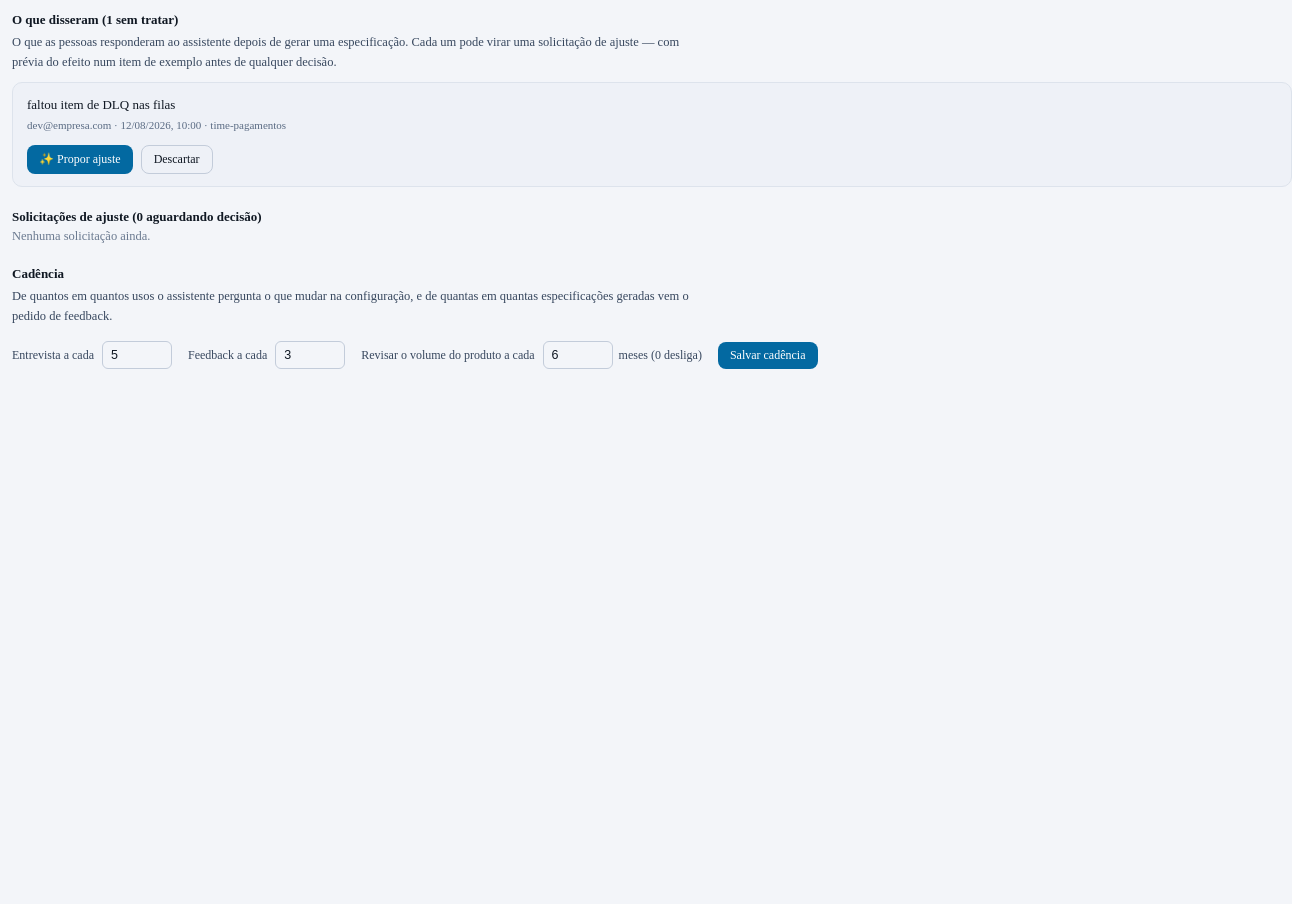
Test: PdcaTab — a jornada do PDCA (SPEC-45) › o ✨ redige o texto do item a partir do feedback
Click the button with test id "propor-f1" at [80, 159], box x1=27 y1=144 x2=133 y2=174
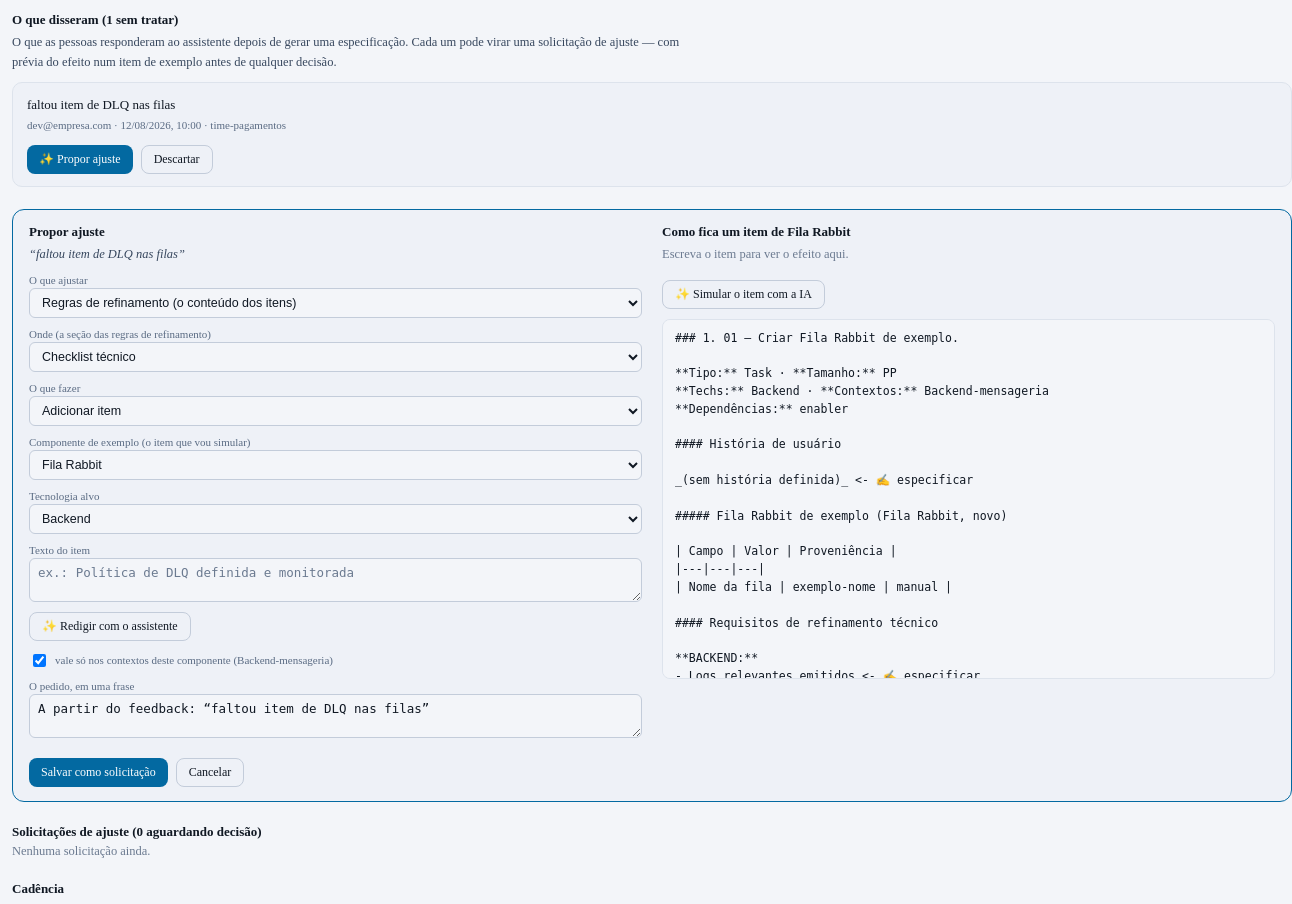
Click the button with test id "redigir-com-ia" at [110, 626], box x1=29 y1=612 x2=191 y2=640
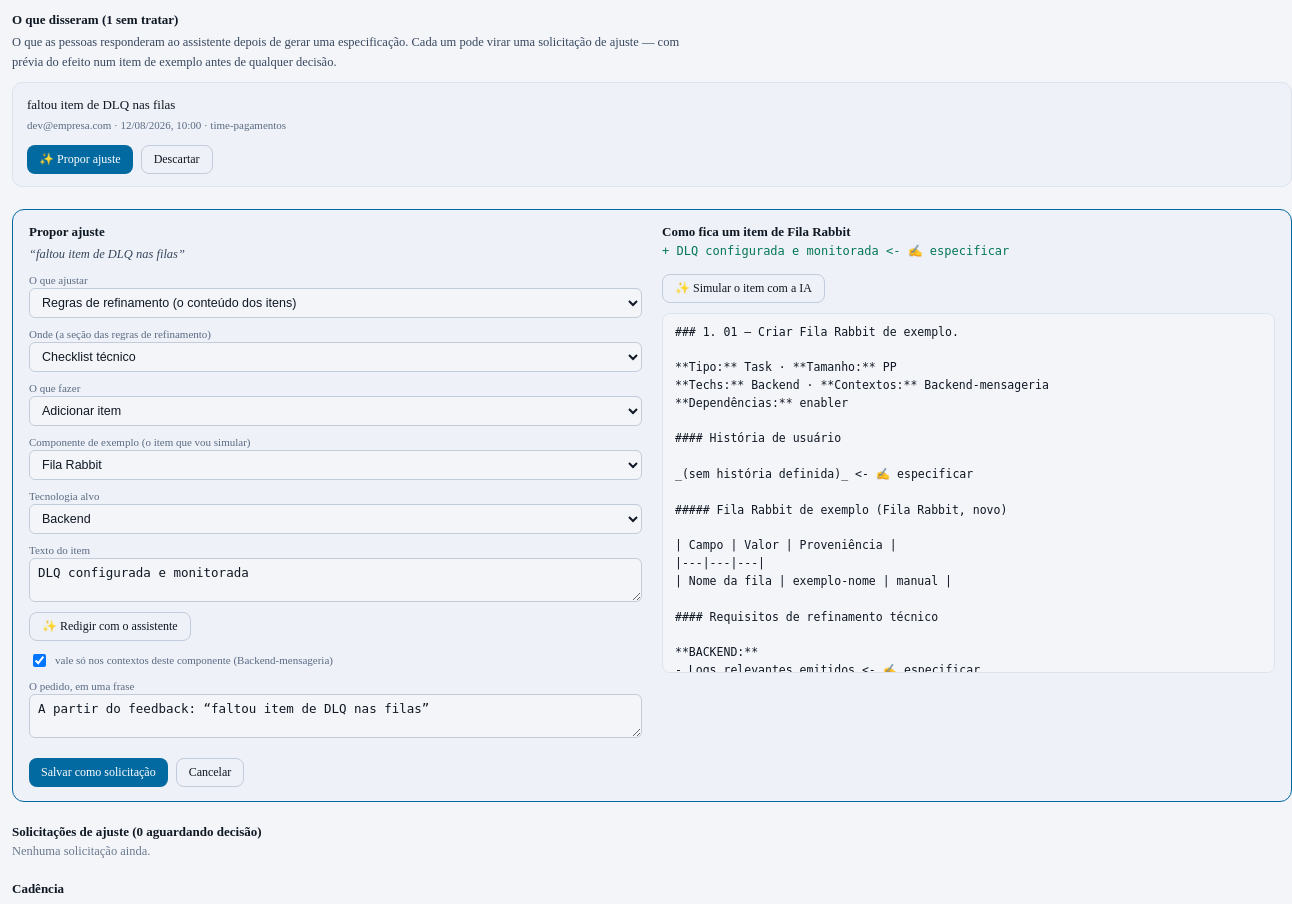
expect the text box named "Texto do item" holds "DLQ configurada e monitorada": met, box x1=29 y1=558 x2=642 y2=602
